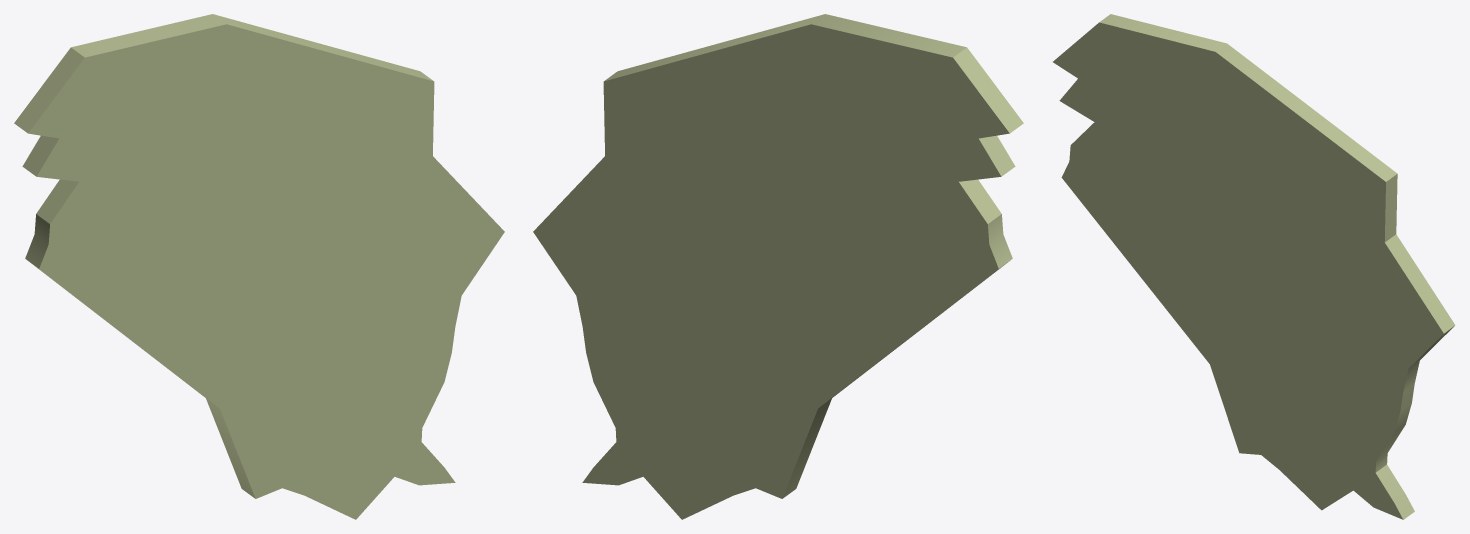
The model's file is Tlahualilo.fbx.
3 renders of one model, left to right at view 1: azimuth 30°, elevation 25°; view 2: azimuth 150°, elevation 25°; view 3: azimuth 330°, elevation 25°, orthographic. The views are drawn at different scales.
Parts seen in each view (by area): view 1: tlahualilo; view 2: tlahualilo; view 3: tlahualilo.
Part boxes in pixels (bbox=[...]): tlahualilo: bbox=[14, 14, 504, 519]; tlahualilo: bbox=[533, 14, 1023, 519]; tlahualilo: bbox=[1053, 14, 1455, 519].
Size of the model in its own units: 157 by 166 by 8.
